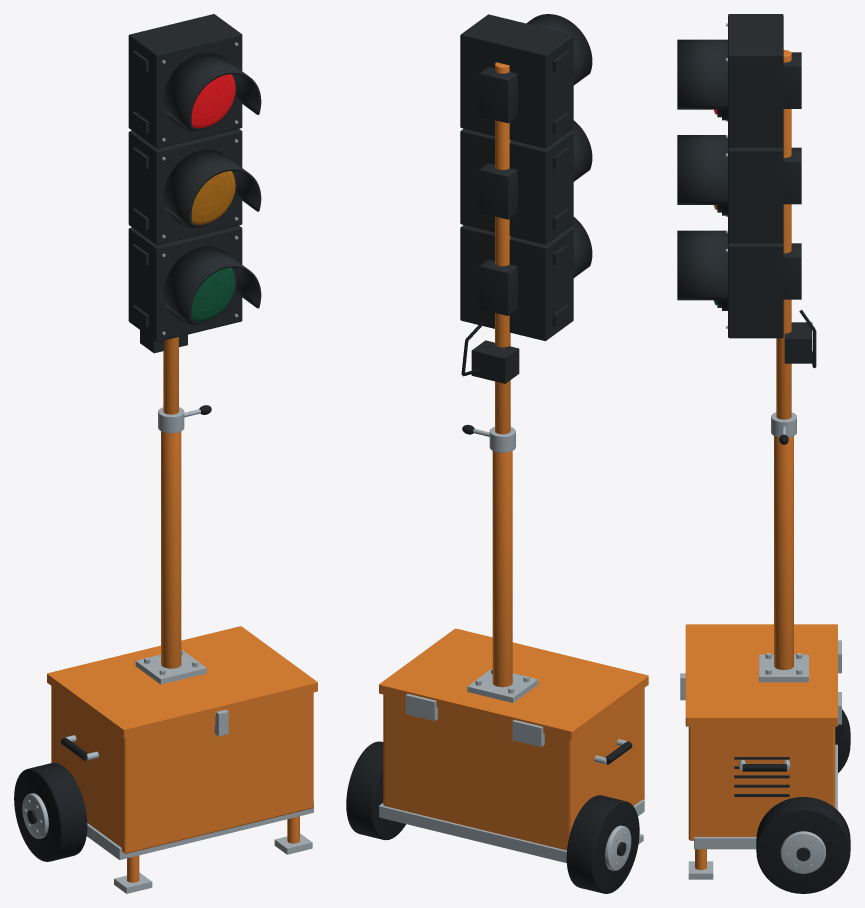
Rendered from portable_vehicle_signal_LOD0.glb.
The picture shows the model from 3 angles, left to right: view 1: azimuth 30°, elevation 25°; view 2: azimuth 150°, elevation 25°; view 3: azimuth 270°, elevation 25°; orthographic projection.
Parts seen in each view (by area): view 1: Base_control_battery_housing, Base_lid, Red_head_module, Amber_head_module, Green_head_module, Pole_lower_sleeve, Left_wheel_tire, Green_sun_visor, Amber_sun_visor, Red_sun_visor, Amber_lens, Red_lens (+5 smaller); view 2: Base_control_battery_housing, Base_lid, Red_head_module, Amber_head_module, Green_head_module, Pole_lower_sleeve, Left_wheel_tire, Right_wheel_tire, Pole_upper_mast, Base_chassis, Amber_rear_mast_saddle, Red_rear_mast_saddle (+9 smaller); view 3: Base_lid, Base_control_battery_housing, Red_head_module, Right_wheel_tire, Amber_head_module, Green_head_module, Pole_lower_sleeve, Red_sun_visor, Green_sun_visor, Amber_sun_visor, Pole_upper_mast, Right_wheel_hub (+9 smaller).
Part boxes in pixels (x1,y1,x2,y2): Base_control_battery_housing: (51, 686, 313, 853); Base_lid: (47, 626, 317, 738); Red_head_module: (128, 14, 242, 148); Amber_head_module: (128, 129, 242, 245); Green_head_module: (128, 225, 242, 341); Pole_lower_sleeve: (161, 431, 181, 668); Left_wheel_tire: (14, 762, 87, 861); Green_sun_visor: (163, 246, 261, 324); Amber_sun_visor: (163, 149, 261, 227); Red_sun_visor: (163, 53, 261, 131); Amber_lens: (191, 171, 235, 224); Red_lens: (191, 74, 235, 128); Base_control_battery_housing: (383, 688, 644, 850); Base_lid: (379, 628, 648, 740); Red_head_module: (460, 14, 573, 148); Amber_head_module: (460, 129, 573, 244); Green_head_module: (460, 225, 573, 341); Pole_lower_sleeve: (492, 451, 512, 687); Left_wheel_tire: (566, 795, 639, 893); Right_wheel_tire: (346, 741, 405, 840); Pole_upper_mast: (495, 62, 510, 434); Base_chassis: (379, 799, 644, 863); Amber_rear_mast_saddle: (479, 163, 517, 219); Red_rear_mast_saddle: (479, 66, 517, 123); Base_lid: (685, 624, 837, 726); Base_control_battery_housing: (688, 726, 835, 840); Red_head_module: (728, 14, 783, 147); Right_wheel_tire: (756, 797, 850, 893); Amber_head_module: (728, 146, 783, 242); Green_head_module: (728, 242, 783, 338); Pole_lower_sleeve: (774, 436, 793, 669); Red_sun_visor: (677, 39, 727, 109); Green_sun_visor: (677, 230, 727, 300); Amber_sun_visor: (677, 135, 727, 204); Pole_upper_mast: (776, 50, 791, 419); Right_wheel_hub: (780, 831, 825, 873).
Size of the model in its own units: 1.07 by 3.19 by 0.625.
